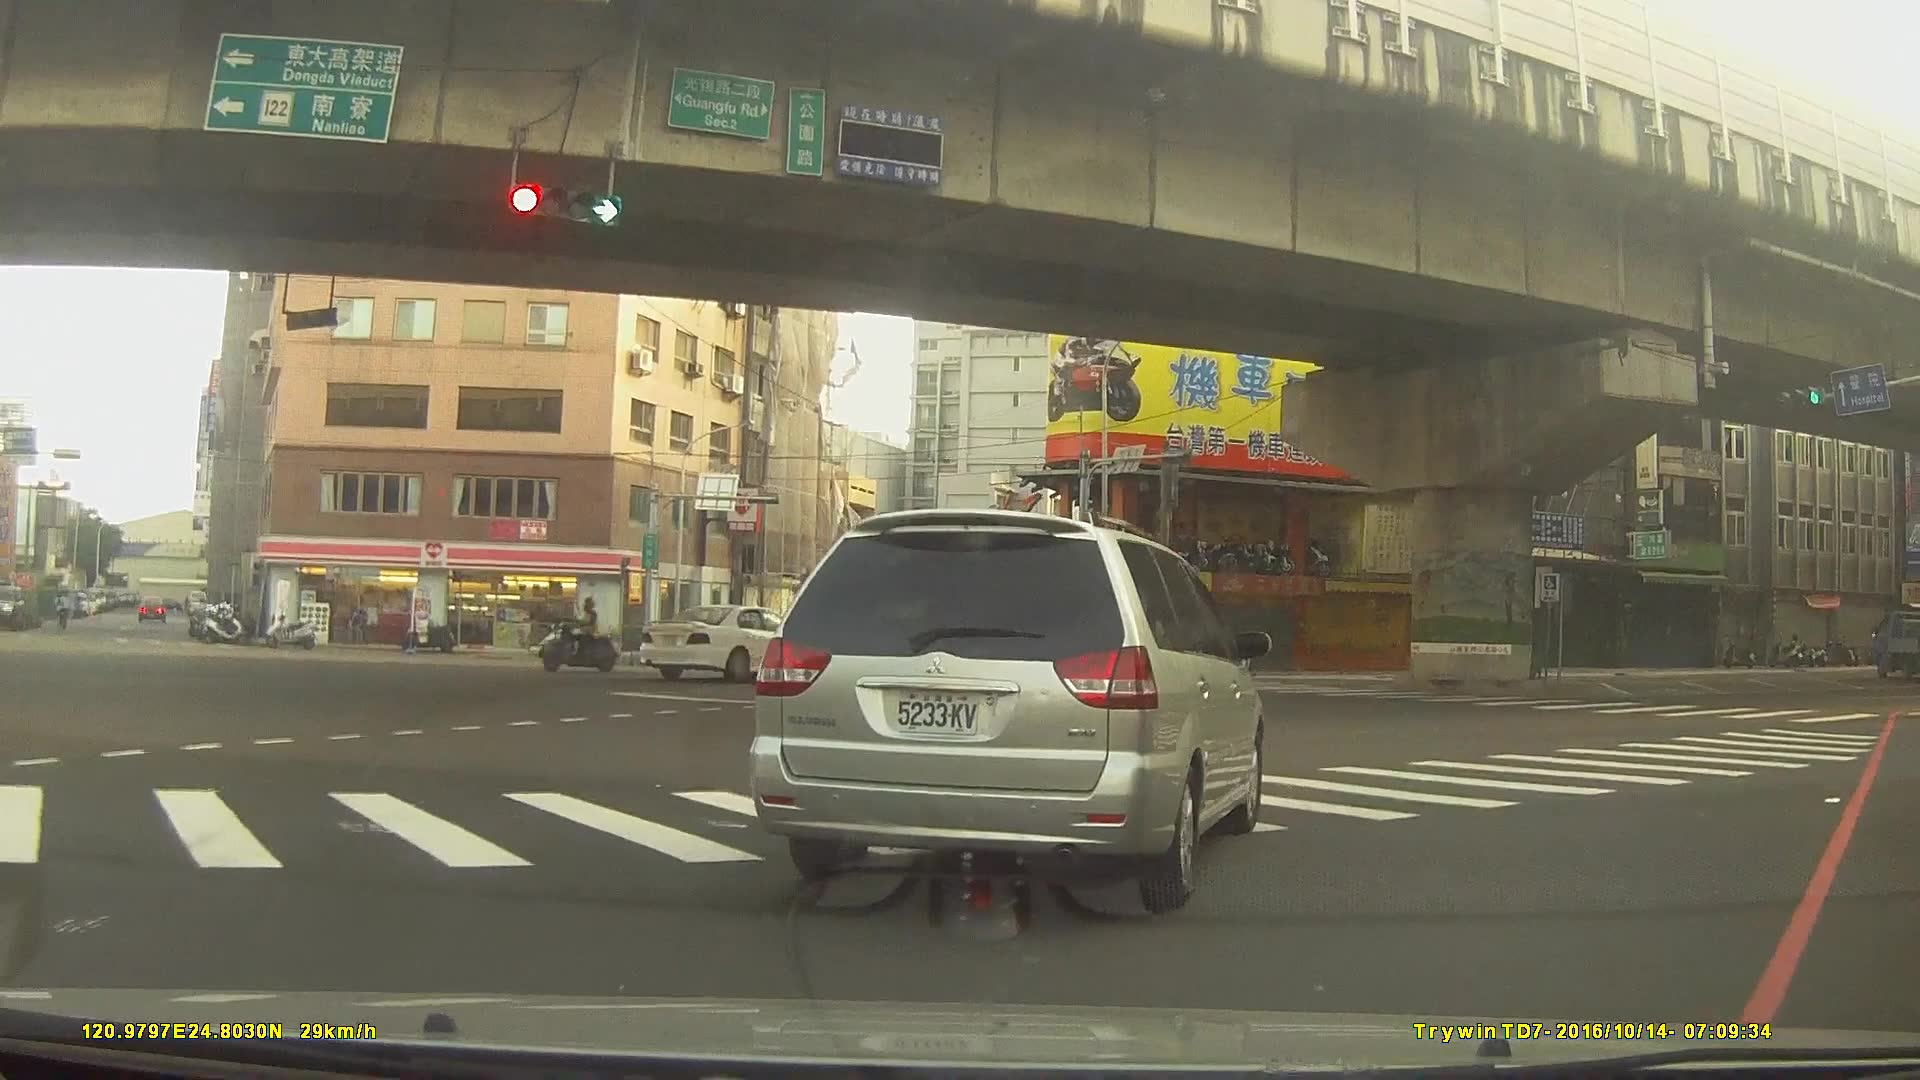rider: (543, 598, 615, 673)
vehicle: (746, 506, 1263, 914), (641, 601, 819, 678), (1870, 610, 1920, 675), (818, 634, 891, 675), (134, 596, 164, 624)
